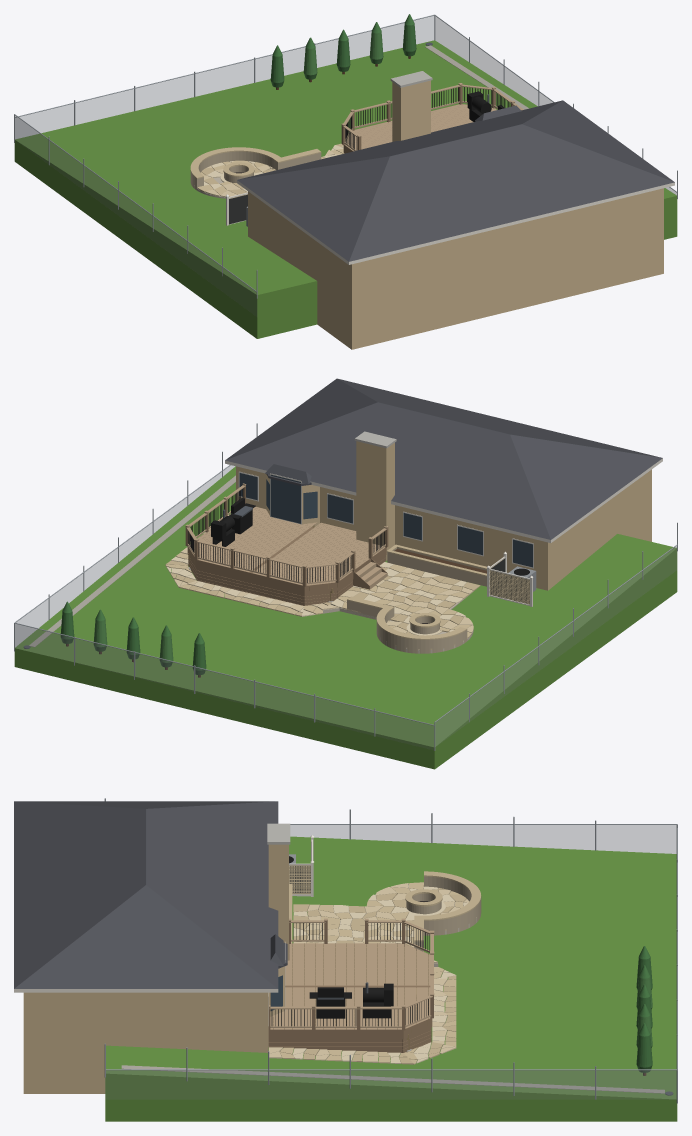
Rendered from backyard-bare.glb.
3 views of the same model, one above another, from view 1: azimuth 30°, elevation 25°; view 2: azimuth 150°, elevation 25°; view 3: azimuth 270°, elevation 25° (orthographic). The views are drawn at different scales.
Parts seen in each view (by area): view 1: Grade/ground, House/roof, House/walls, Fence/fence mesh north, Fence/fence mesh west, Fence/fence mesh east, House/chimney, House/fascia, Seat Wall/arc wall, Seat Wall/arc cap, Fence/fence top rail north, French Drain/stone strip; view 2: Grade/ground, House/roof, House/walls, Fence/fence mesh north, Fence/fence mesh west, House/chimney, Fence/fence mesh east, French Drain/stone strip, House/fascia, Seat Wall/arc wall, House/slider, Herb Bed/wall front (+6 smaller); view 3: Grade/ground, House/roof, House/walls, Fence/fence mesh east, Fence/fence mesh west, French Drain/stone strip, House/chimney, Deck Surface/fascia 0, Seat Wall/arc wall, Fence/fence top rail east, House/fascia, Seat Wall/arc cap (+5 smaller).
Boxes of the visible parts, <box> form: Grade/ground: <box>14,40,677,338</box>; House/roof: <box>237,100,674,261</box>; House/walls: <box>248,188,663,349</box>; Fence/fence mesh north: <box>15,16,433,138</box>; Fence/fence mesh west: <box>15,116,256,315</box>; Fence/fence mesh east: <box>435,16,676,194</box>; House/chimney: <box>392,80,430,141</box>; House/fascia: <box>237,180,674,264</box>; Seat Wall/arc wall: <box>190,151,273,190</box>; Seat Wall/arc cap: <box>190,147,280,178</box>; Fence/fence top rail north: <box>15,14,434,117</box>; French Drain/stone strip: <box>425,45,528,109</box>; Grade/ground: <box>14,466,677,769</box>; House/roof: <box>225,378,662,539</box>; House/walls: <box>236,466,651,590</box>; Fence/fence mesh north: <box>15,624,433,749</box>; Fence/fence mesh west: <box>435,546,676,746</box>; House/chimney: <box>356,441,394,560</box>; Fence/fence mesh east: <box>15,465,234,646</box>; French Drain/stone strip: <box>29,475,235,647</box>; House/fascia: <box>225,458,662,542</box>; Seat Wall/arc wall: <box>376,611,467,653</box>; House/slider: <box>270,474,300,523</box>; Herb Bed/wall front: <box>387,552,486,586</box>; Grade/ground: <box>105,836,677,1121</box>; House/roof: <box>14,801,278,988</box>; House/walls: <box>23,992,268,1093</box>; Fence/fence mesh east: <box>106,1070,676,1099</box>; Fence/fence mesh west: <box>290,825,676,853</box>; French Drain/stone strip: <box>121,1065,664,1093</box>; House/chimney: <box>268,844,288,960</box>; Deck Surface/fascia 0: <box>268,1029,403,1039</box>; Seat Wall/arc wall: <box>424,876,481,935</box>; Fence/fence top rail east: <box>106,1069,677,1070</box>; House/fascia: <box>14,989,278,992</box>; Seat Wall/arc cap: <box>424,871,481,920</box>.
Bounding box in the file's own units: 842 × 289 × 975.
